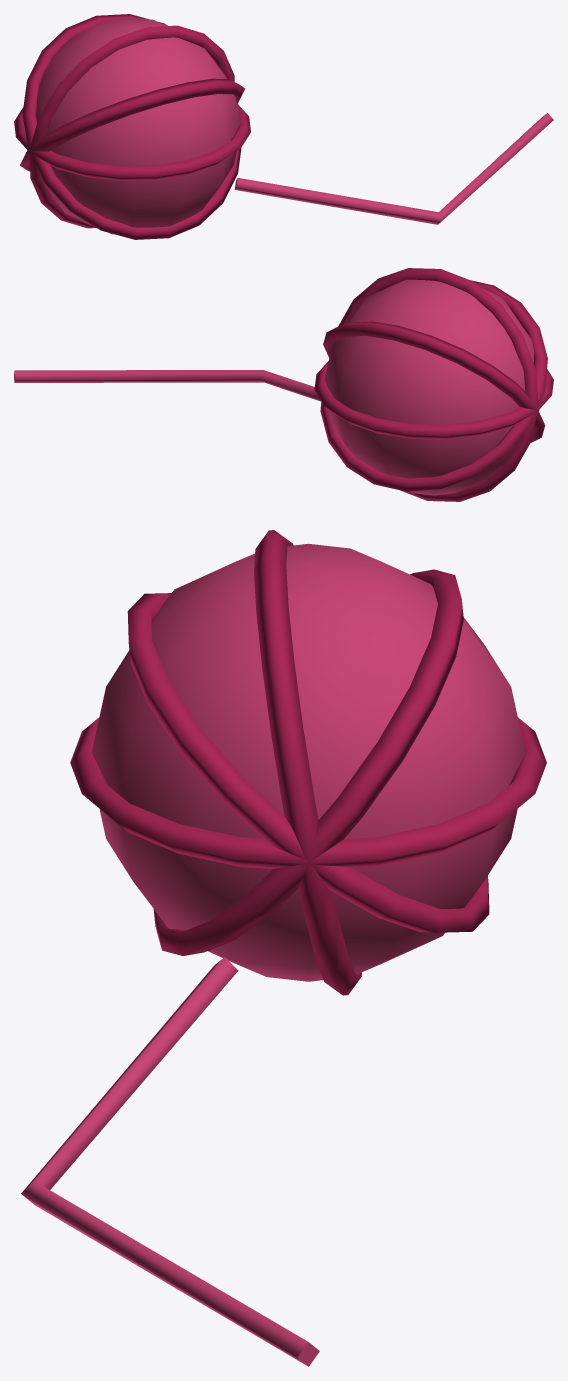
File: yarn_ball.glb
The picture shows the model from 3 angles, top to bottom: view 1: azimuth 30°, elevation 25°; view 2: azimuth 150°, elevation 25°; view 3: azimuth 270°, elevation 25°; orthographic projection. The views are drawn at different scales.
Parts seen in each view (by area): view 1: main; view 2: main; view 3: main.
Part boxes in pixels (<box>): main: <box>14,14,553,239</box>; main: <box>14,268,553,501</box>; main: <box>21,530,546,1366</box>.
Size of the model in its own units: 0.4398 by 0.1713 by 0.192.
